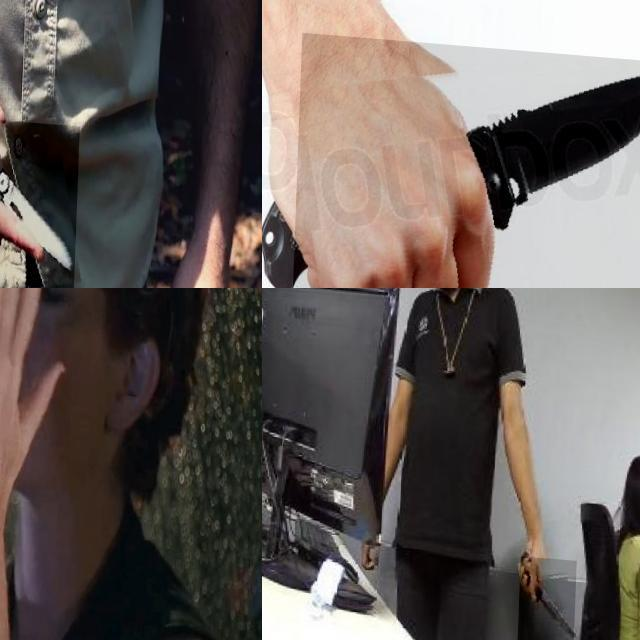-: (295, 29, 640, 288), (0, 109, 85, 288), (522, 550, 581, 640)
gun-knife-thesis - v11 Yolov5 augmented: (0, 288, 128, 526)
